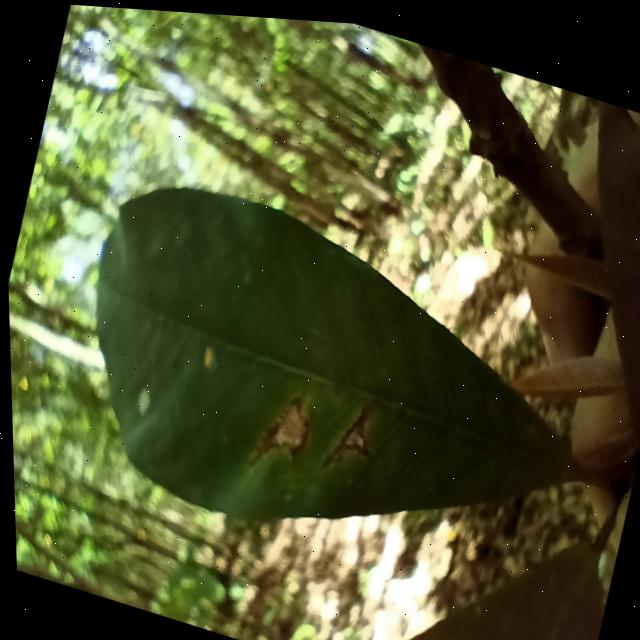Corynespora: (315, 392, 381, 476)
